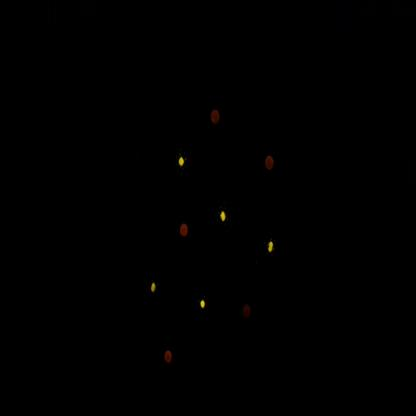PE: (195, 290, 215, 322), (262, 229, 280, 263), (146, 271, 164, 305), (216, 201, 231, 229), (176, 149, 190, 177)
PS: (237, 293, 257, 333), (208, 103, 227, 142), (159, 338, 177, 379), (176, 216, 194, 250), (261, 149, 279, 181)
